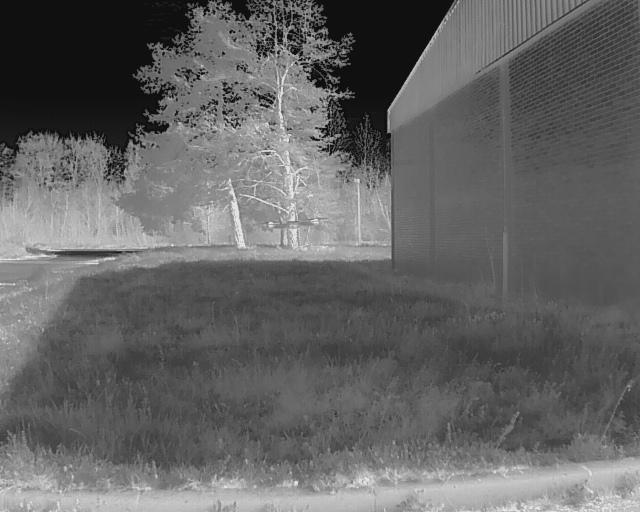drone: (254, 208, 329, 247)
